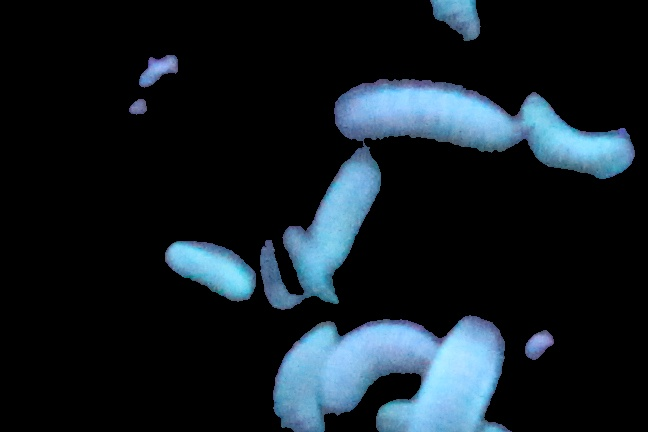larvae: (334, 89, 519, 150), (422, 311, 514, 432), (252, 324, 347, 432), (322, 322, 439, 409), (523, 95, 633, 180), (311, 157, 382, 273), (164, 242, 251, 300), (429, 1, 526, 43)
